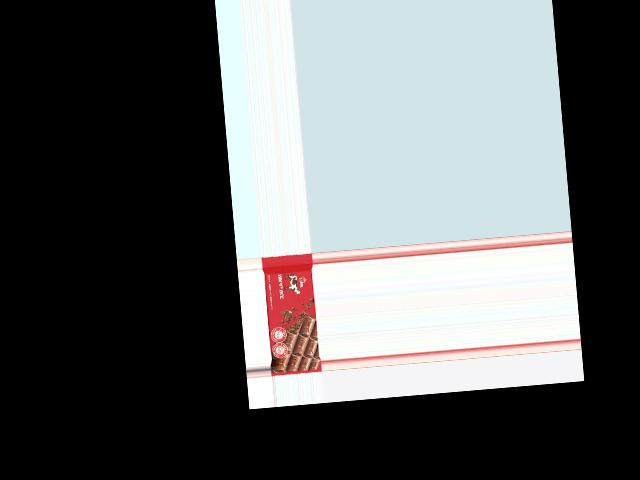chocolate: (260, 254, 321, 376)
